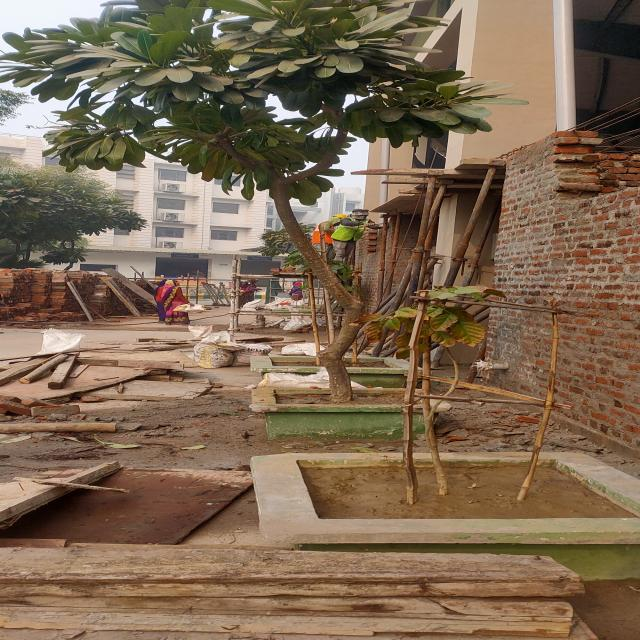safe: (327, 209, 373, 267)
unsafe: (158, 280, 198, 326)
